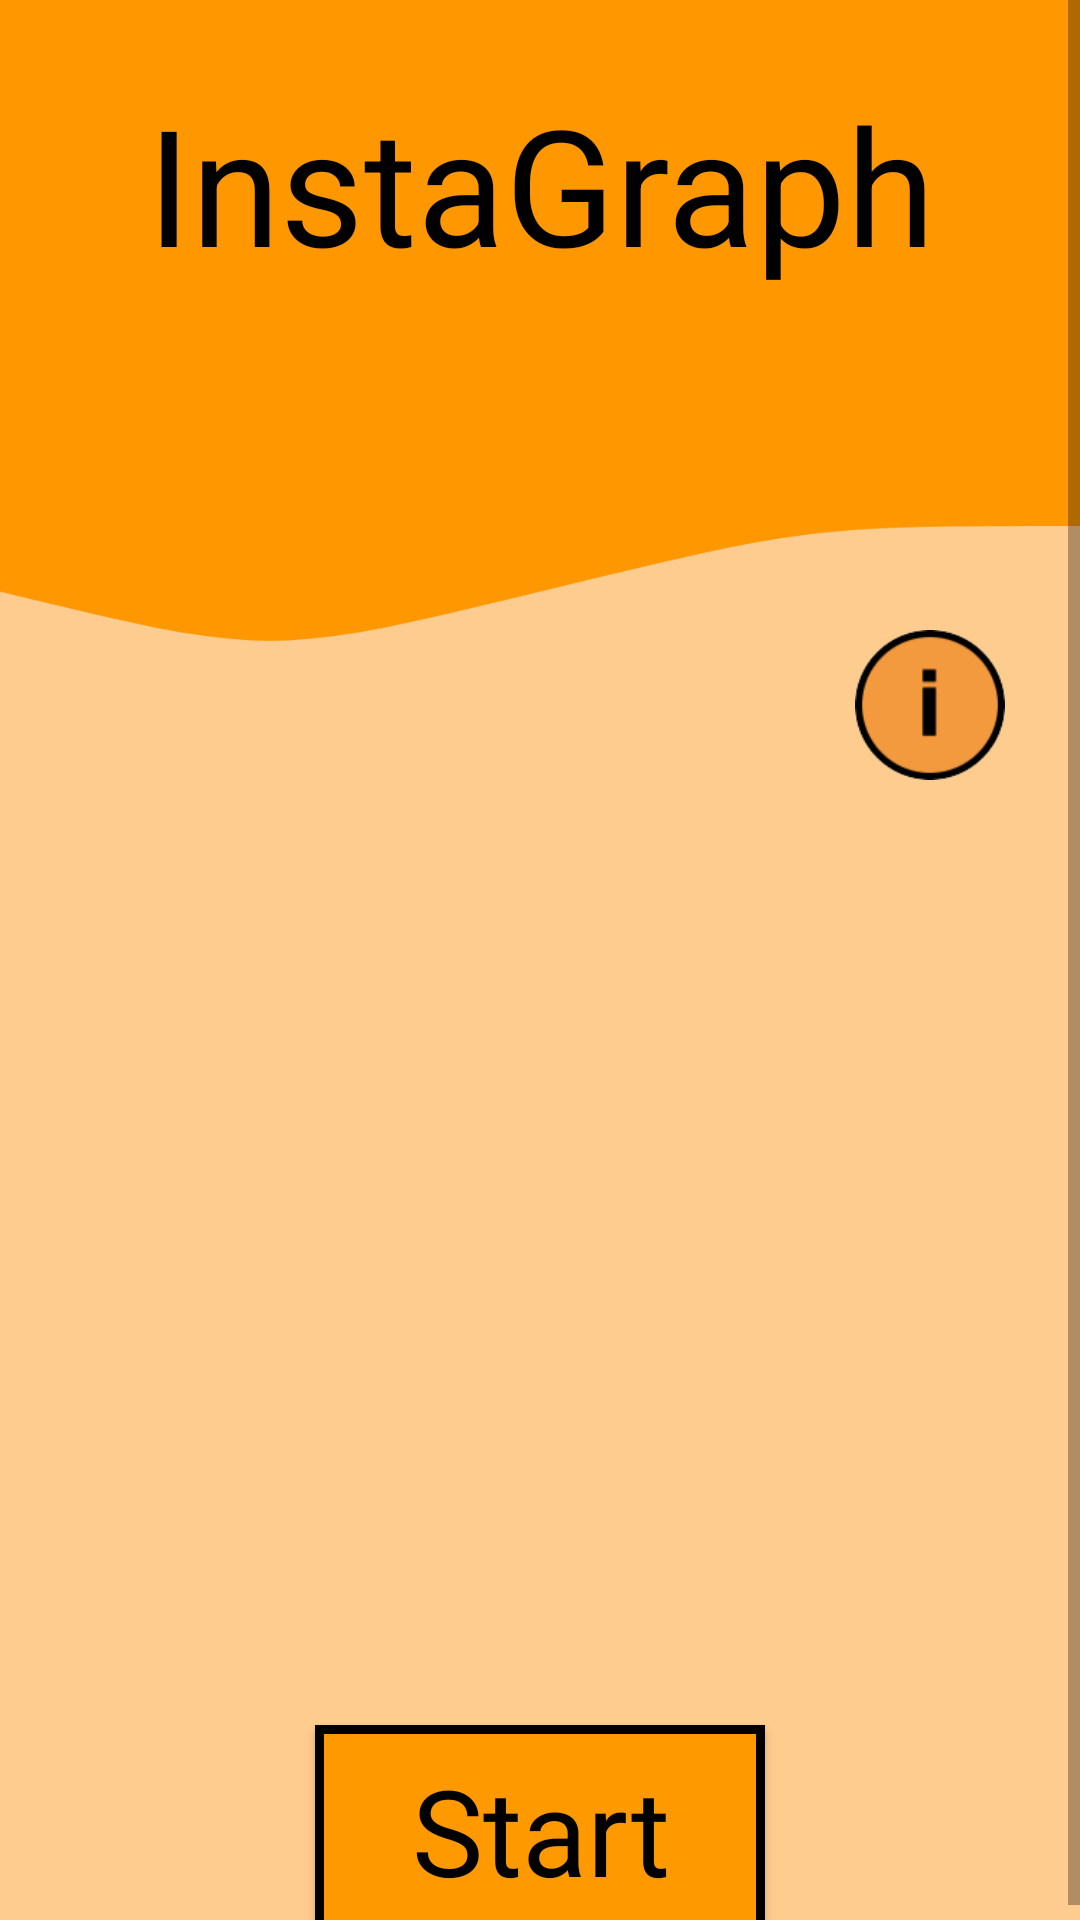

Icon bounding boxes for this 1080px x 1920px phone screenshot, format rect(x1, y1, x2, y2):
Tap to display information about InstaGraph: rect(855, 630, 1005, 780)
